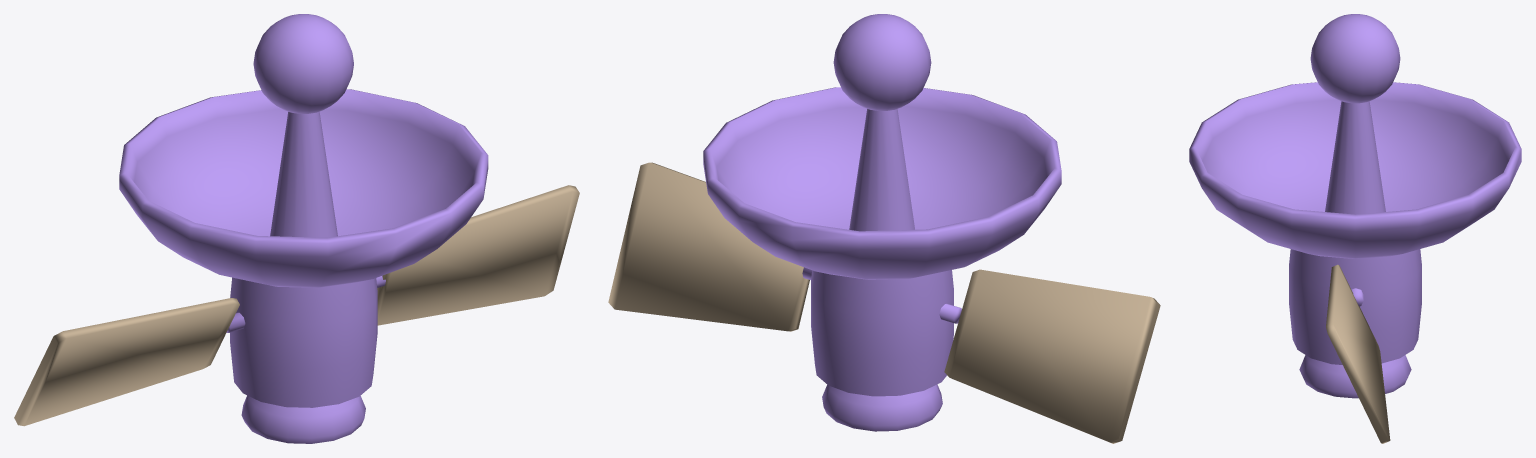
Rendered from state.FBX.
3 views of the same model, side by side, from view 1: azimuth 30°, elevation 25°; view 2: azimuth 150°, elevation 25°; view 3: azimuth 270°, elevation 25° (orthographic). The views are drawn at different scales.
Parts seen in each view (by area): view 1: Satellite_body, Satellite_sp, Stateellite_mast; view 2: Satellite_body, Satellite_sp, Stateellite_mast; view 3: Satellite_body, Stateellite_mast, Satellite_sp.
Boxes of the visible parts, x1,y1,x2,y2 form: Satellite_body: (119,89,488,443); Satellite_sp: (14,185,579,426); Stateellite_mast: (253,14,353,237); Satellite_body: (703,87,1061,431); Satellite_sp: (608,162,1160,443); Stateellite_mast: (833,14,931,231); Satellite_body: (1189,82,1521,398); Stateellite_mast: (1310,14,1400,214); Satellite_sp: (1326,264,1390,443).
Bounding box in the file's own units: 196 × 141 × 119.
